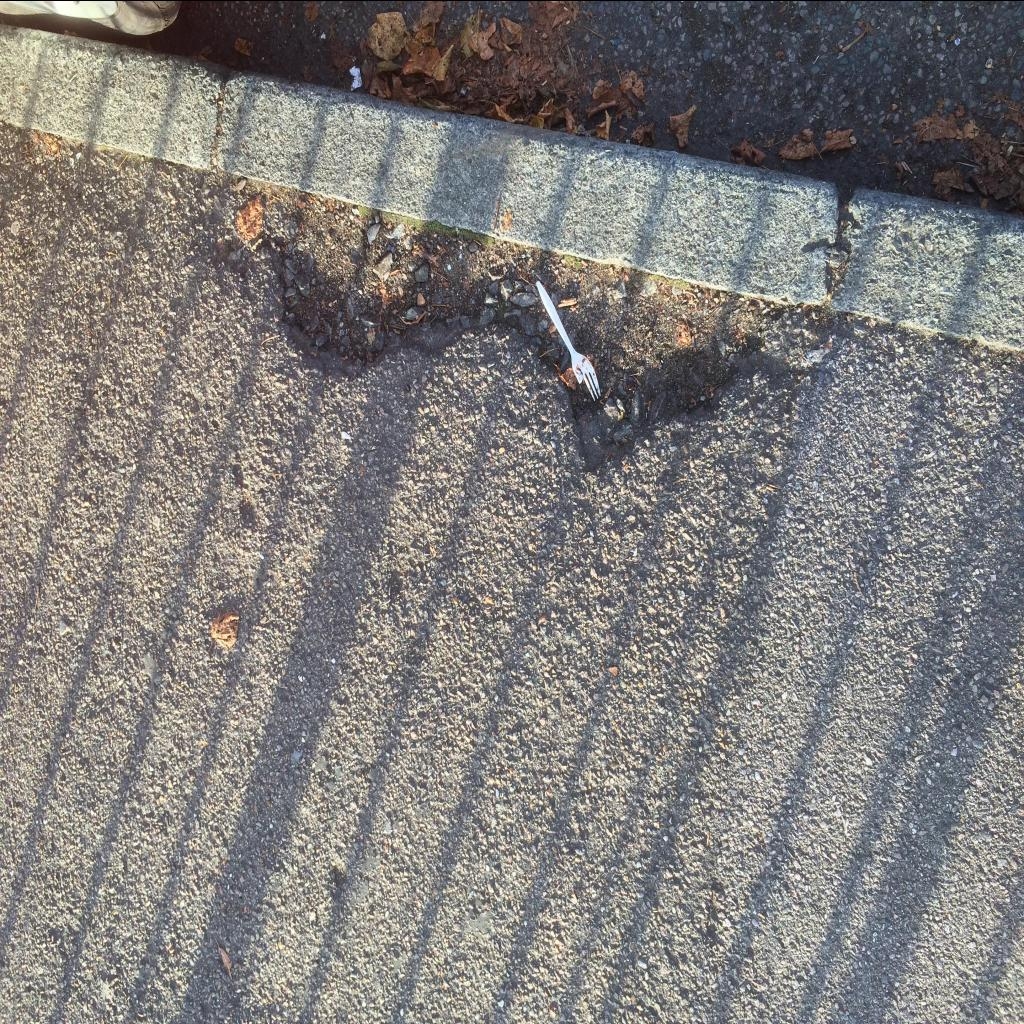Plastic utensils: (536, 280, 600, 400)
Unlabeled litter: (348, 66, 362, 90)
